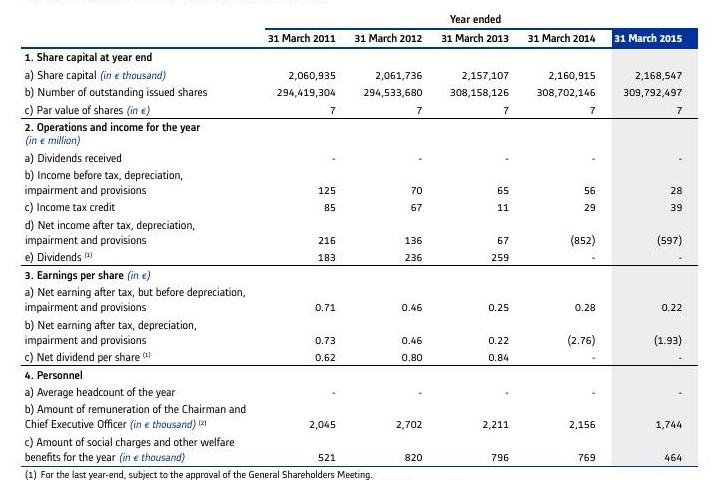table: (0, 0, 719, 480)
